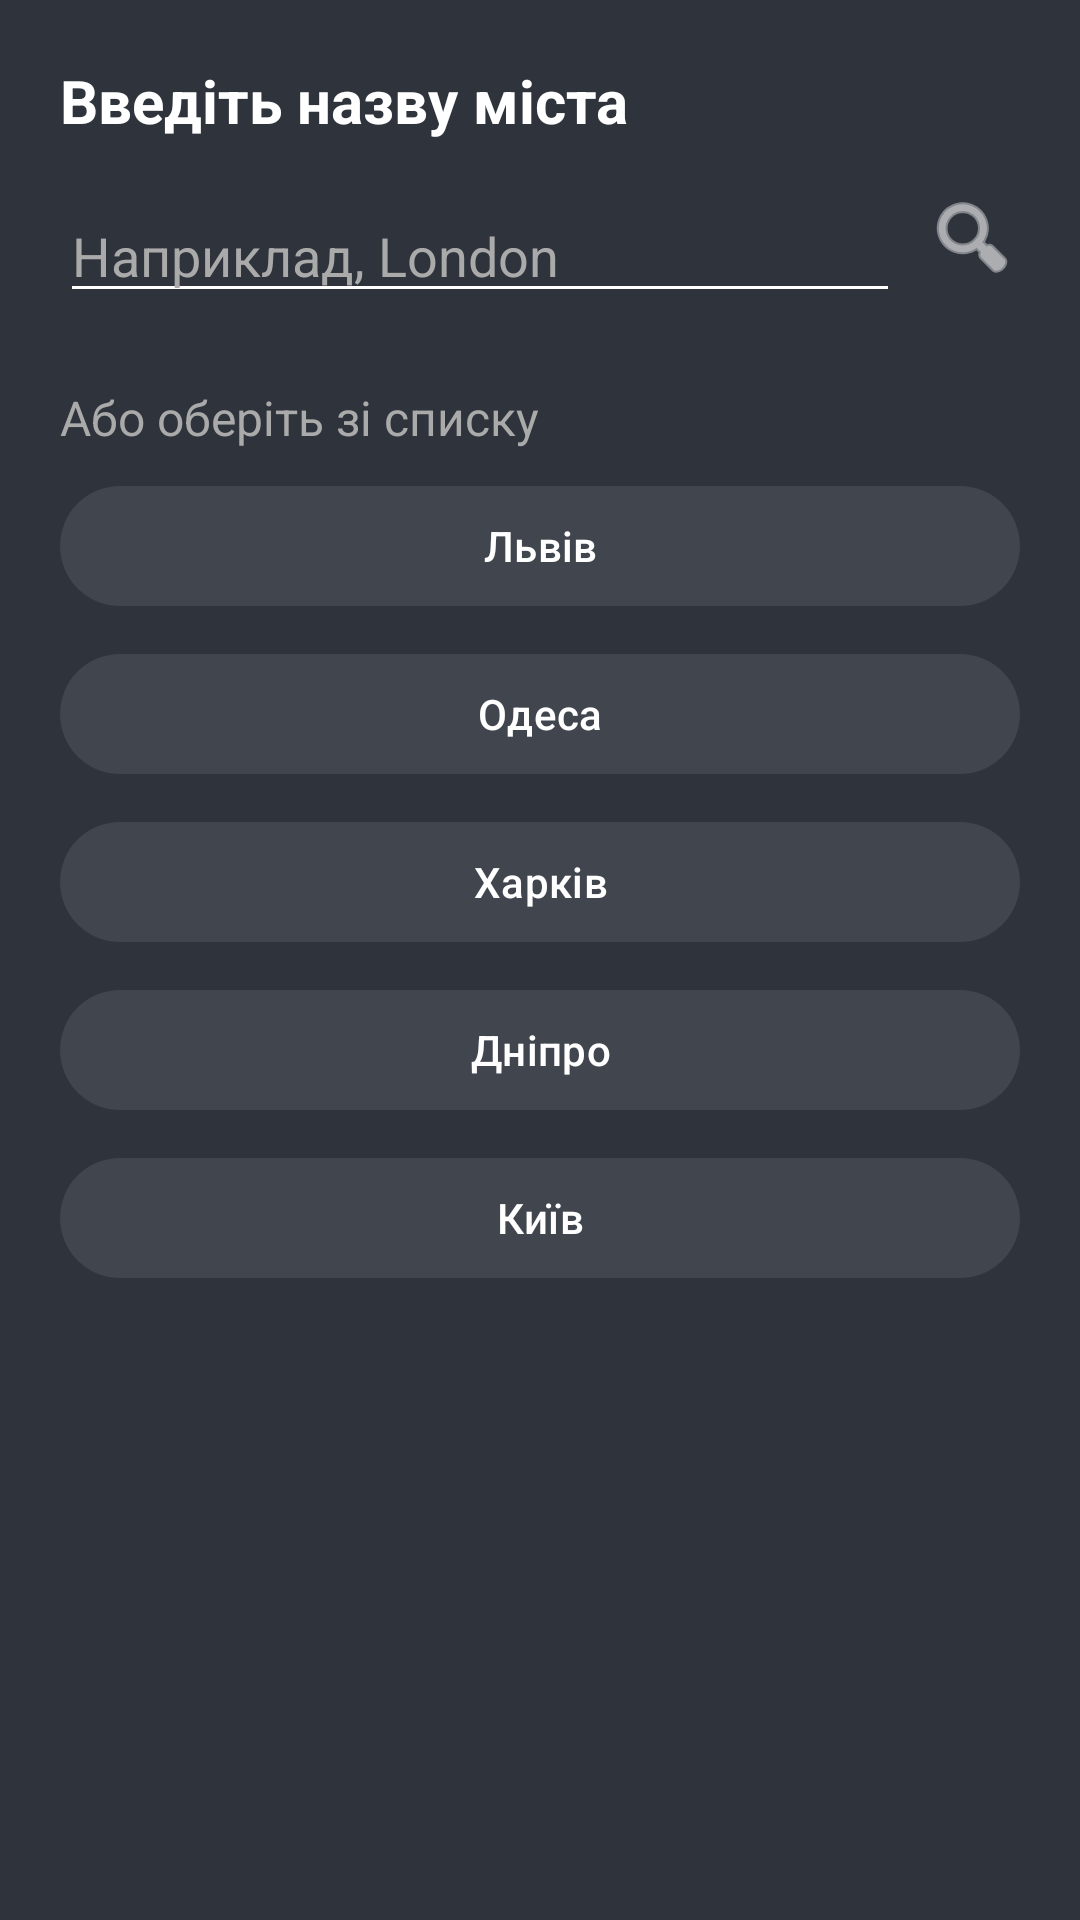

Icons on this 1080*1920 Android screen, each with its box as (x1, y1, x2, y2):
search: (937, 202, 1007, 273)
